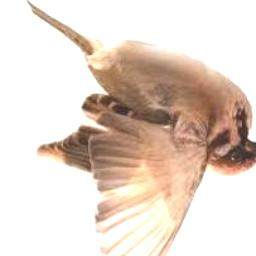Sparrow: (18, 0, 256, 256)
